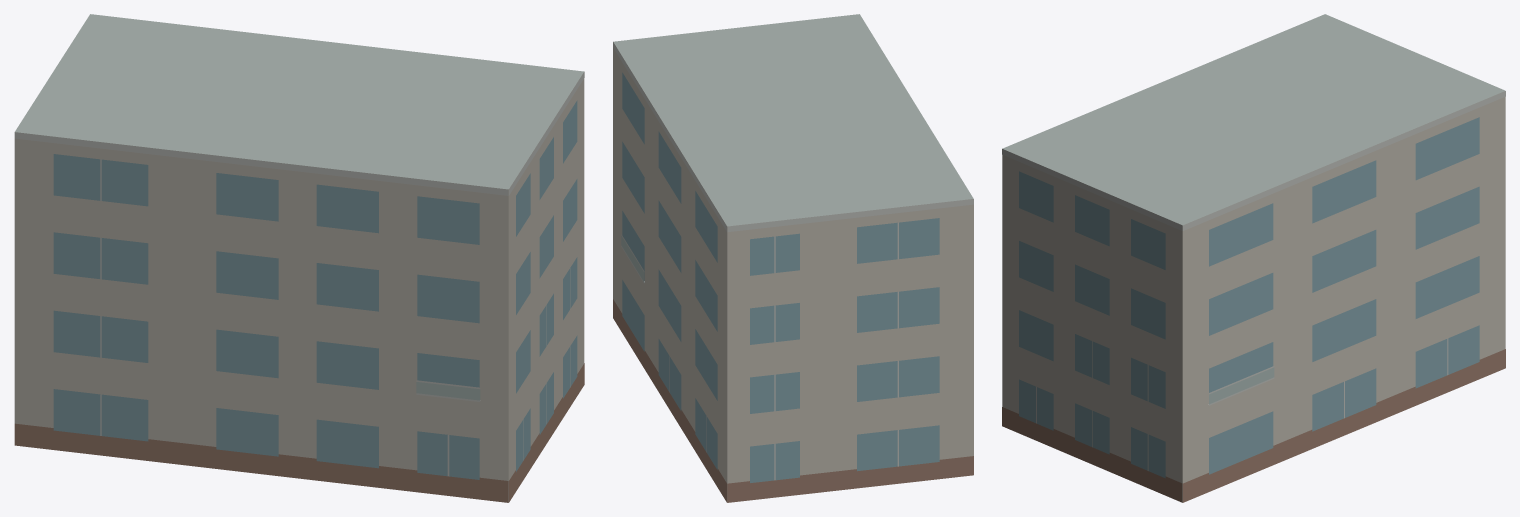
Rendered from survey-upis-32773184.glb.
The picture shows the model from 3 angles, left to right: view 1: azimuth 30°, elevation 25°; view 2: azimuth 150°, elevation 25°; view 3: azimuth 270°, elevation 25°; orthographic projection. The views are drawn at different scales.
Parts seen in each view (by area): view 1: survey-upis-32773184.tmp; view 2: survey-upis-32773184.tmp; view 3: survey-upis-32773184.tmp.
Part boxes in pixels (<box>): survey-upis-32773184.tmp: <box>14,14,584,502</box>; survey-upis-32773184.tmp: <box>613,14,973,502</box>; survey-upis-32773184.tmp: <box>1002,14,1505,502</box>.
Bounding box in the file's own units: 19.13 × 11.7 × 19.25.
